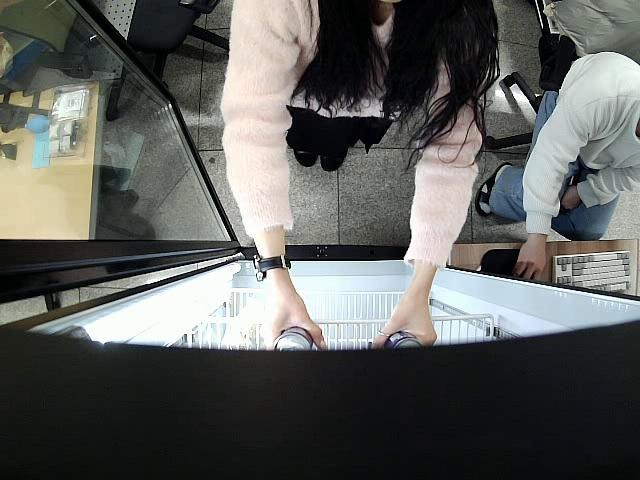16_hot6: (273, 324, 316, 355), (385, 330, 424, 354)
